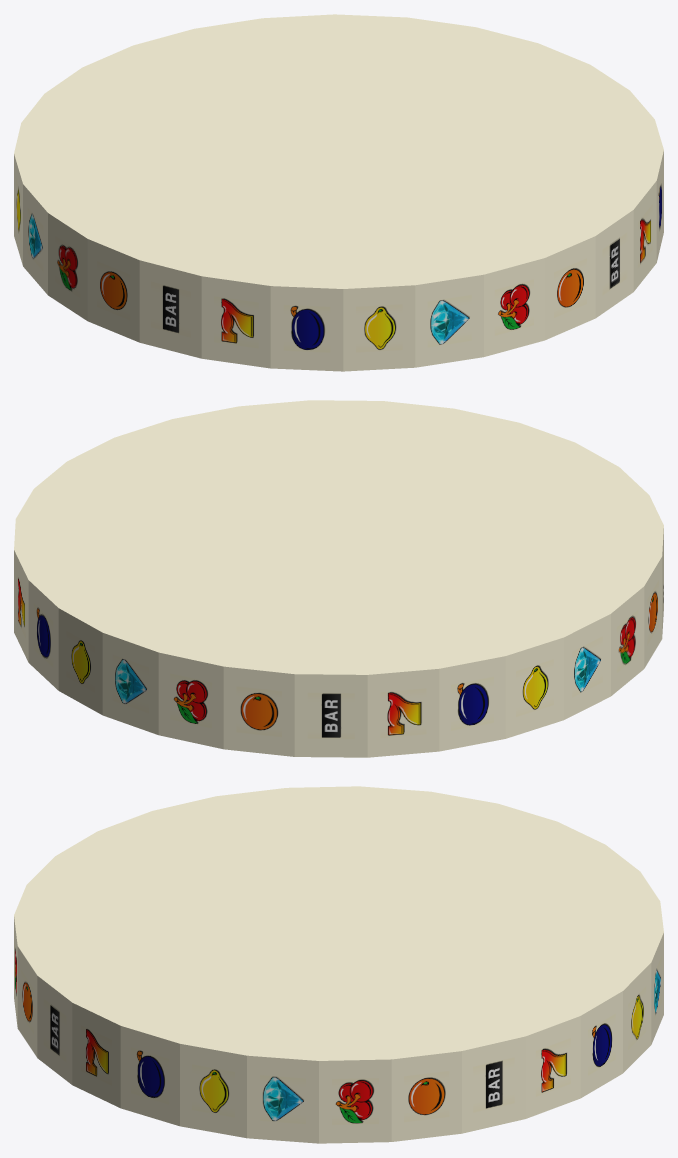
The model's file is WHEEL2.fbx.
3 renders of one model, top to bottom at view 1: azimuth 30°, elevation 25°; view 2: azimuth 150°, elevation 25°; view 3: azimuth 270°, elevation 25°, orthographic.
Parts seen in each view (by area): view 1: Cylinder; view 2: Cylinder; view 3: Cylinder.
Boxes of the visible parts, <box> form: Cylinder: <box>14,14,663,371</box>; Cylinder: <box>14,400,663,757</box>; Cylinder: <box>14,786,663,1143</box>.
Bounding box in the file's own units: 200 × 28 × 200.
